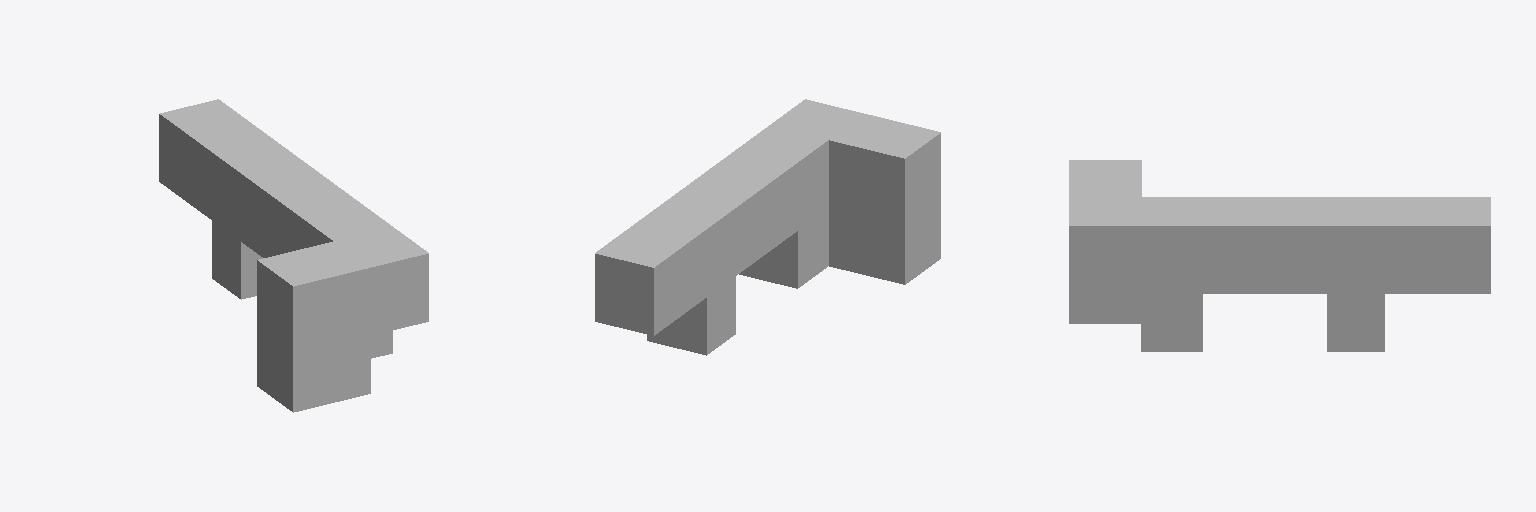
The model's file is cocinaintegralarriba1.obj.
3 views of the same model, side by side, from view 1: azimuth 30°, elevation 25°; view 2: azimuth 150°, elevation 25°; view 3: azimuth 270°, elevation 25° (orthographic).
Visible parts, largest first — view 1: fridge1:fridge1:pCube2; view 2: fridge1:fridge1:pCube2; view 3: fridge1:fridge1:pCube2.
Part boxes in pixels (x1,y1,x2,y2): fridge1:fridge1:pCube2: (159, 99, 428, 412); fridge1:fridge1:pCube2: (595, 99, 940, 355); fridge1:fridge1:pCube2: (1069, 160, 1490, 351).
Size of the model in its own units: 1.14 by 1.01 by 3.07.